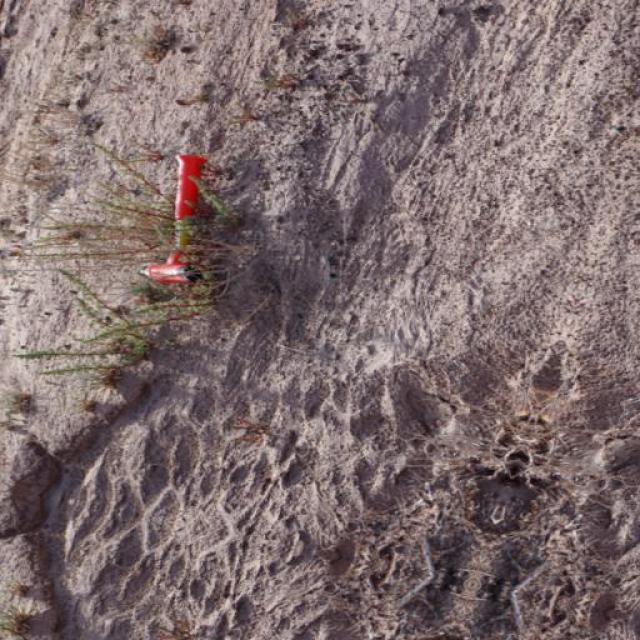mallet: (139, 151, 210, 285)
